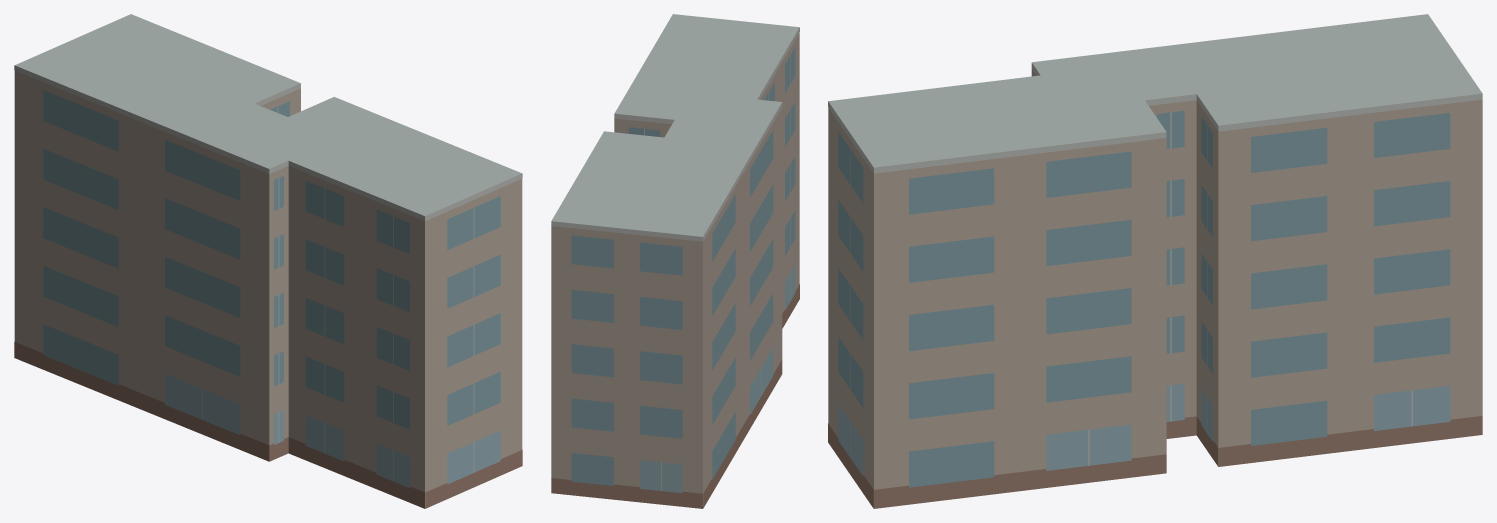
Rendered from survey-upis-32609012.glb.
3 views of the same model, side by side, from view 1: azimuth 30°, elevation 25°; view 2: azimuth 150°, elevation 25°; view 3: azimuth 270°, elevation 25° (orthographic). The views are drawn at different scales.
Parts seen in each view (by area): view 1: survey-upis-32609012.tmp; view 2: survey-upis-32609012.tmp; view 3: survey-upis-32609012.tmp.
Boxes of the visible parts, x1,y1,x2,y2 form: survey-upis-32609012.tmp: [14, 14, 522, 508]; survey-upis-32609012.tmp: [551, 14, 799, 508]; survey-upis-32609012.tmp: [828, 14, 1482, 508].
Bounding box in the file's own units: 13.53 × 14 × 24.35.
